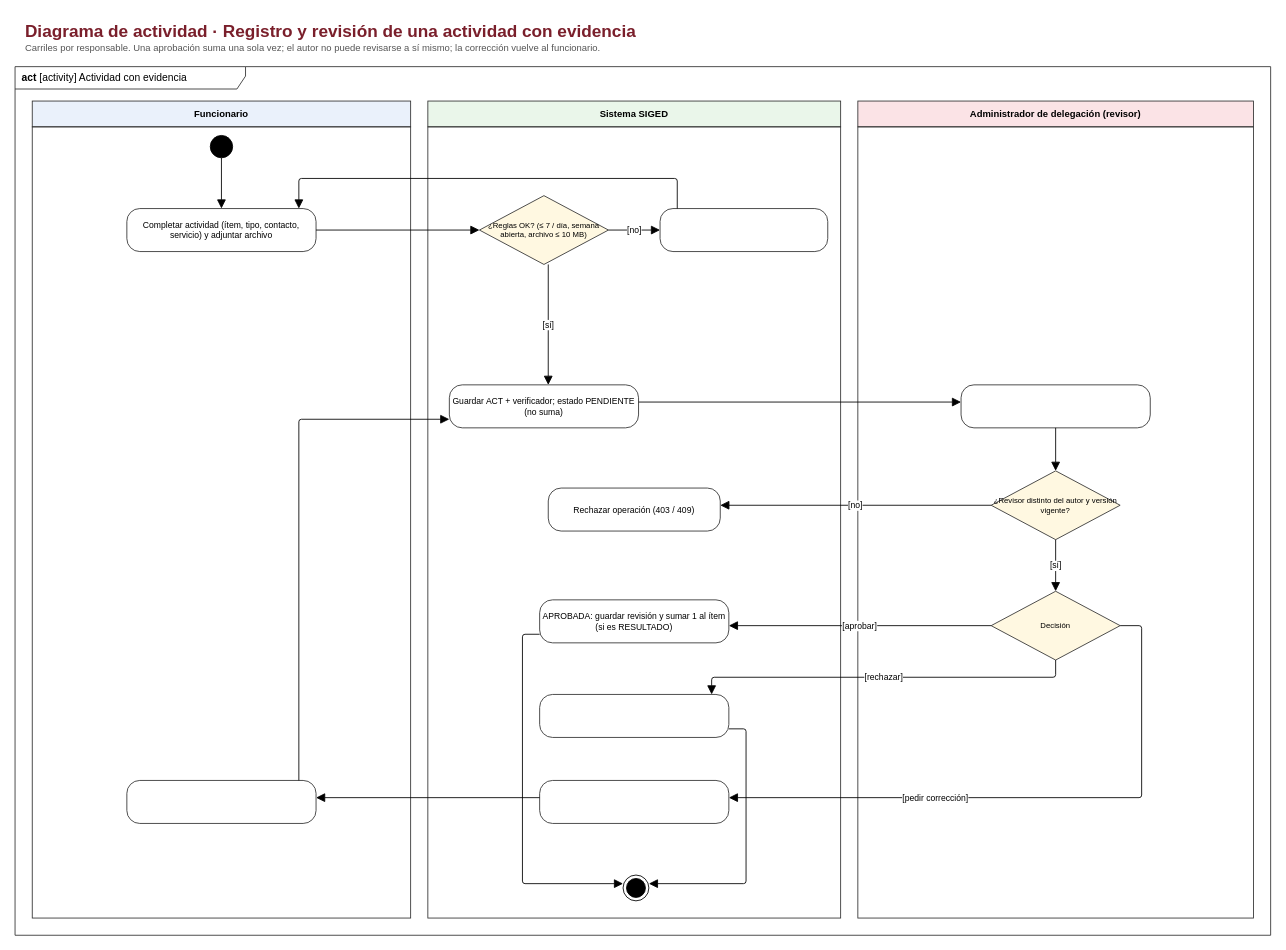
This 1286x950 diagram has some shape labels left out. The shapes that lost their labels are listed below. From the top down, each one's centre as x and y in pixels, then its label:
At [743,230]: "Mostrar errores y conservar datos".
At [1055,406]: "Abrir actividad y ver evidencia".
At [634,715]: "RECHAZADA: guardar revisión con comentario".
At [221,801]: "Corregir y volver a enviar".
At [634,801]: "CORRECCIÓN: guardar revisión y devolver".
